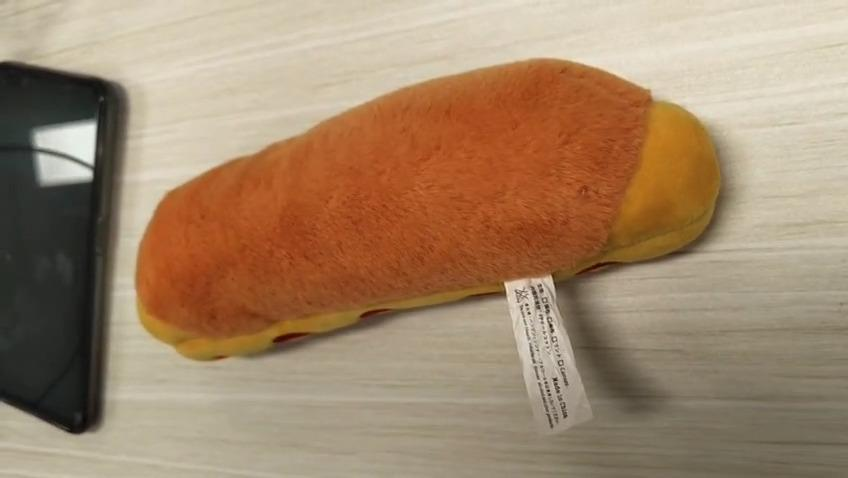hotdog: (135, 59, 716, 364)
